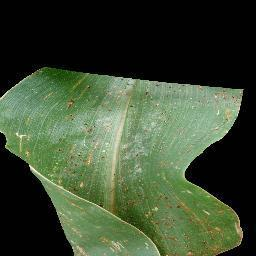Corn_Common_Rust: (131, 195, 245, 255), (54, 208, 131, 256), (56, 138, 102, 175), (209, 85, 245, 131), (123, 131, 144, 194), (0, 127, 32, 161), (140, 83, 177, 99), (150, 100, 167, 128), (81, 118, 101, 138), (65, 180, 86, 196), (116, 78, 133, 95), (64, 96, 78, 112), (99, 106, 117, 114), (65, 111, 75, 123), (126, 103, 138, 113), (98, 198, 108, 207), (86, 82, 92, 91)
